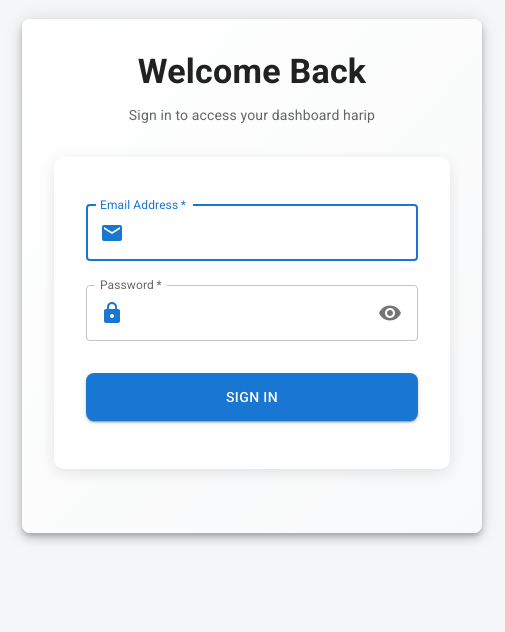
Test case: Login Component › shows error for empty fields
Click the button "Sign In". click: [252, 397]
box: [86,373,418,421]
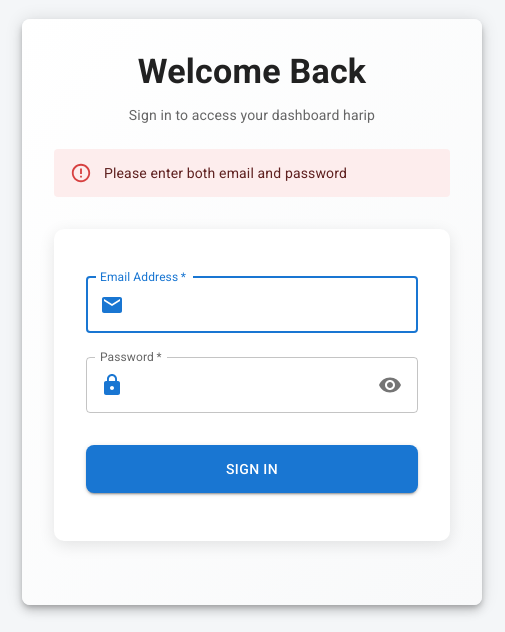
Expected: the text "Please enter both email and password" is shown, [104,165,347,181]
